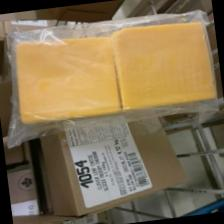cheese: (11, 30, 122, 125), (110, 17, 218, 112)
